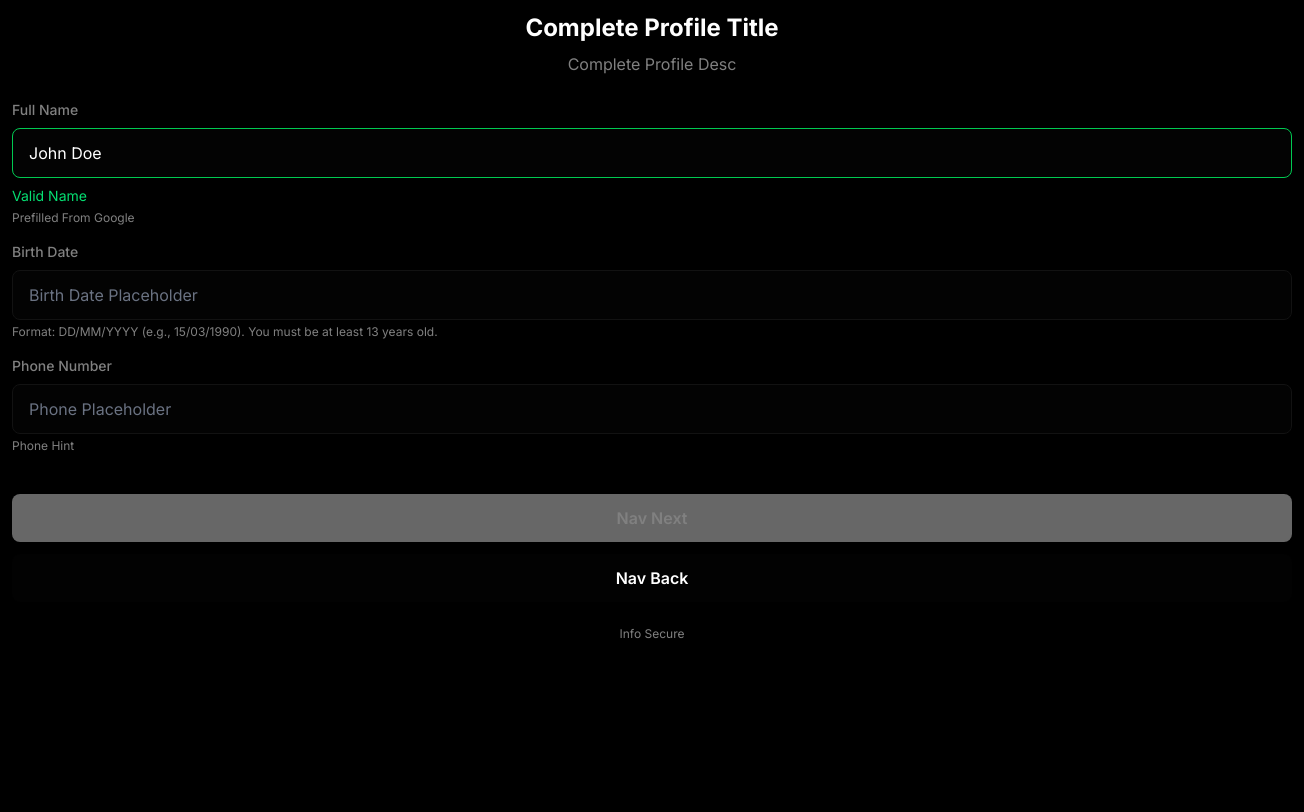
Test: GoogleOAuthPersonalInfo › Phone Number Validation › should show error when phone format is invalid
Step 1. Type "123" into the field labelled "Phone Number" → (652, 409), box [12,384,1292,434]
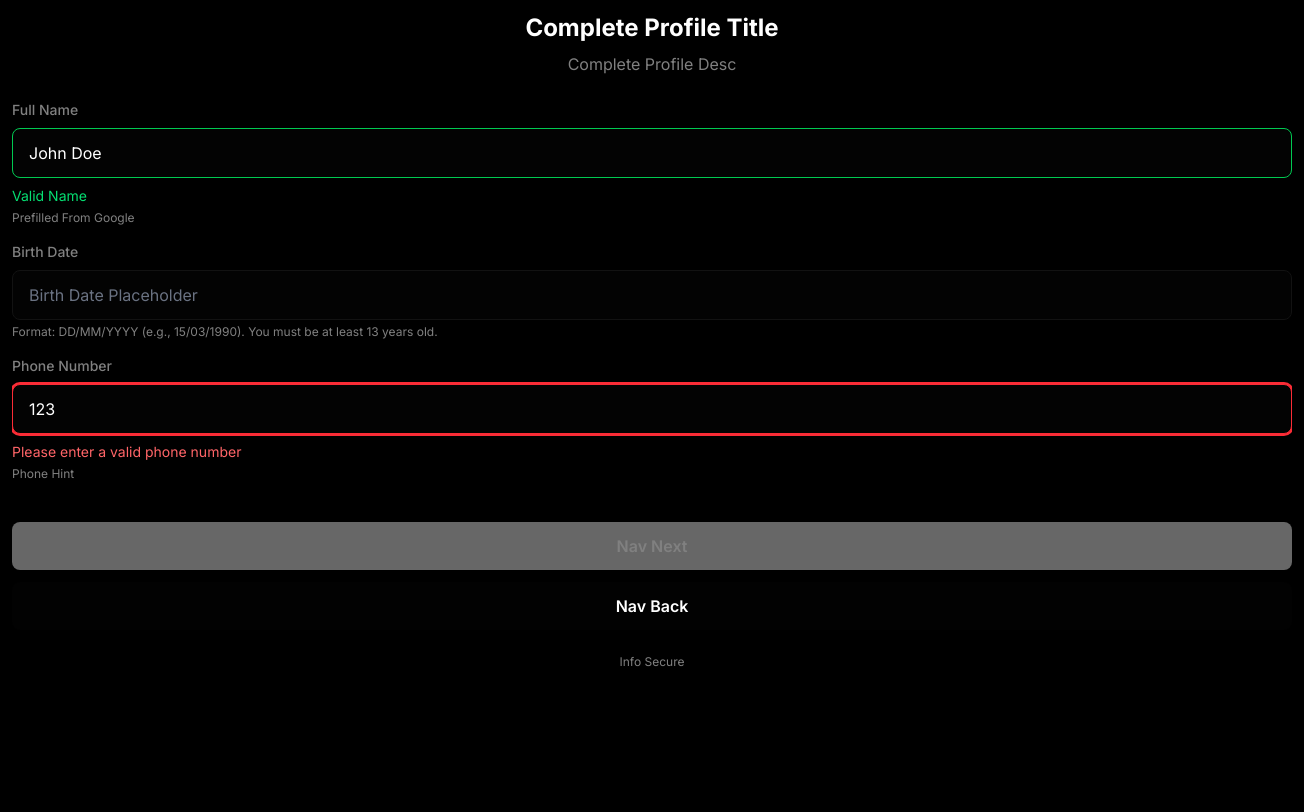
Result: the text "Please enter a valid phone number" is shown at [12,443,241,460]
